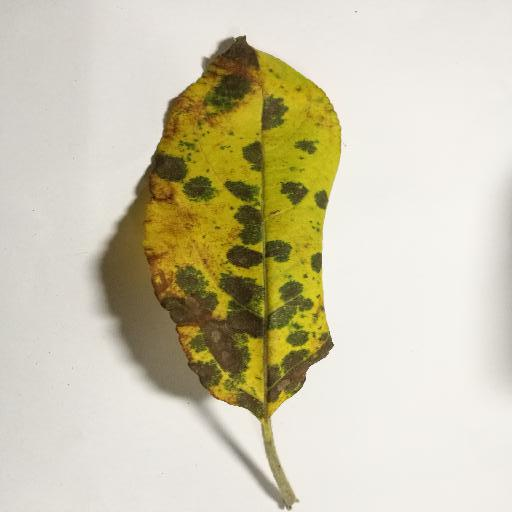Brown_Spot: (160, 280, 262, 413), (262, 330, 353, 404), (135, 90, 233, 144), (204, 35, 261, 80)
